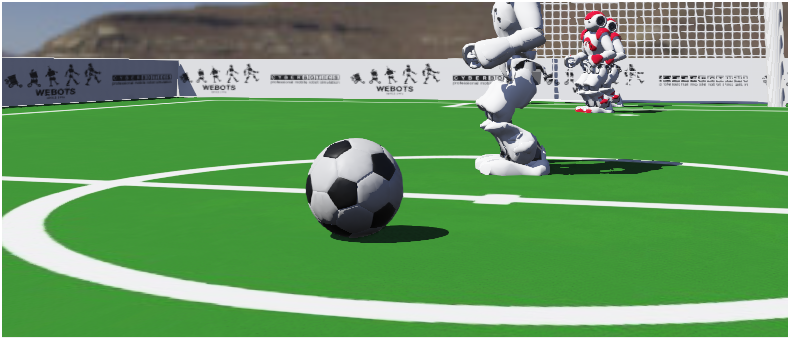Ball: (292, 131, 445, 278)
Goal: (502, 7, 790, 102)
Player: (455, 6, 564, 187), (552, 13, 645, 113)
